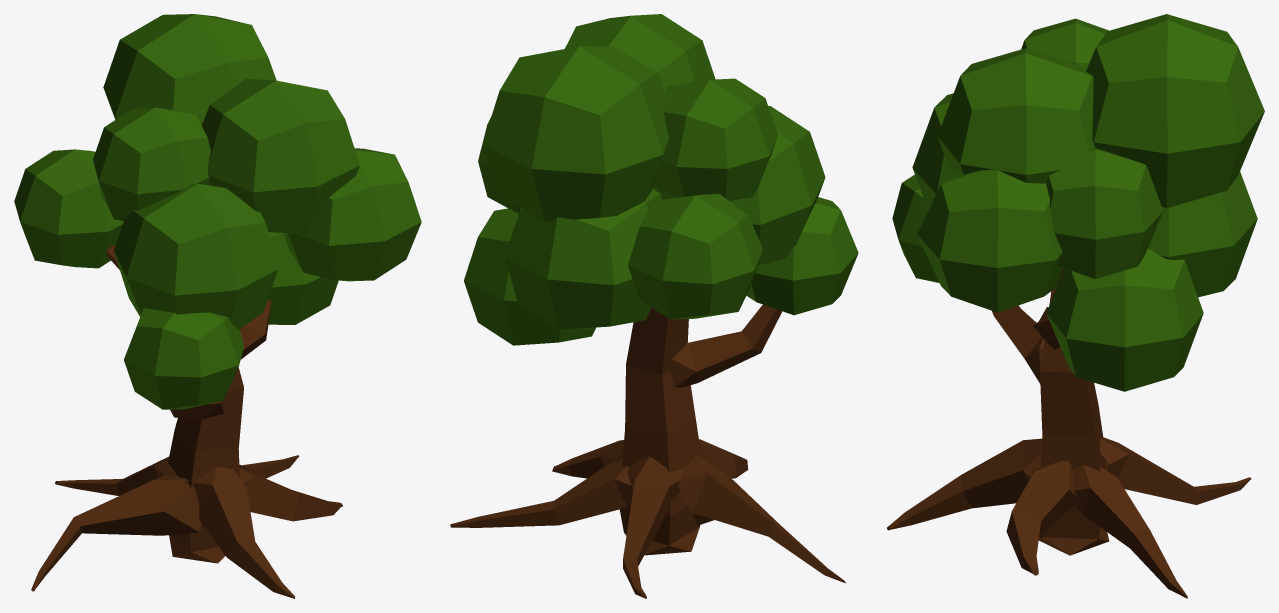
Rendered from Tree 1 LOD 1.fbx.
3 renders of one model, left to right at view 1: azimuth 30°, elevation 25°; view 2: azimuth 150°, elevation 25°; view 3: azimuth 270°, elevation 25°, orthographic. The views are drawn at different scales.
Parts seen in each view (by area): view 1: Leaves.001, Trunk.001; view 2: Leaves.001, Trunk.001; view 3: Leaves.001, Trunk.001.
Part boxes in pixels (<box>): Leaves.001: <box>14,14,421,409</box>; Trunk.001: <box>31,245,342,598</box>; Leaves.001: <box>464,14,858,345</box>; Trunk.001: <box>450,304,845,598</box>; Leaves.001: <box>892,14,1264,391</box>; Trunk.001: <box>887,268,1251,598</box>.
Size of the model in its own units: 3600 by 4938 by 3139.
